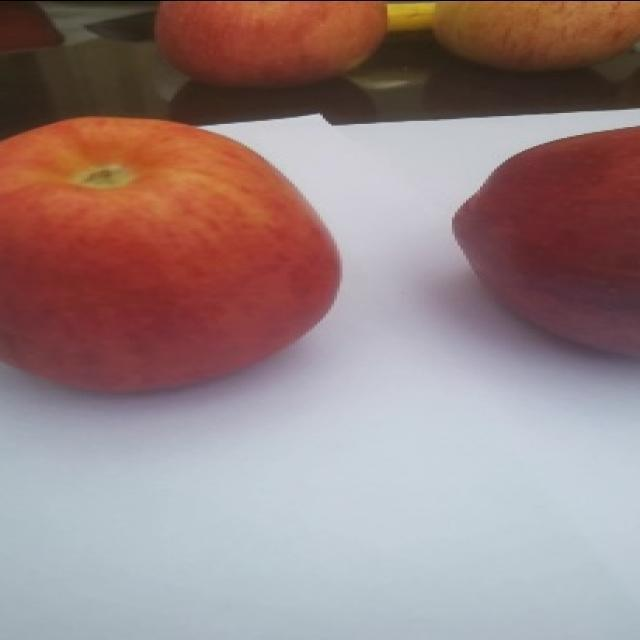Apple: (0, 114, 342, 394), (451, 124, 639, 358), (153, 0, 388, 89), (431, 0, 639, 72)
